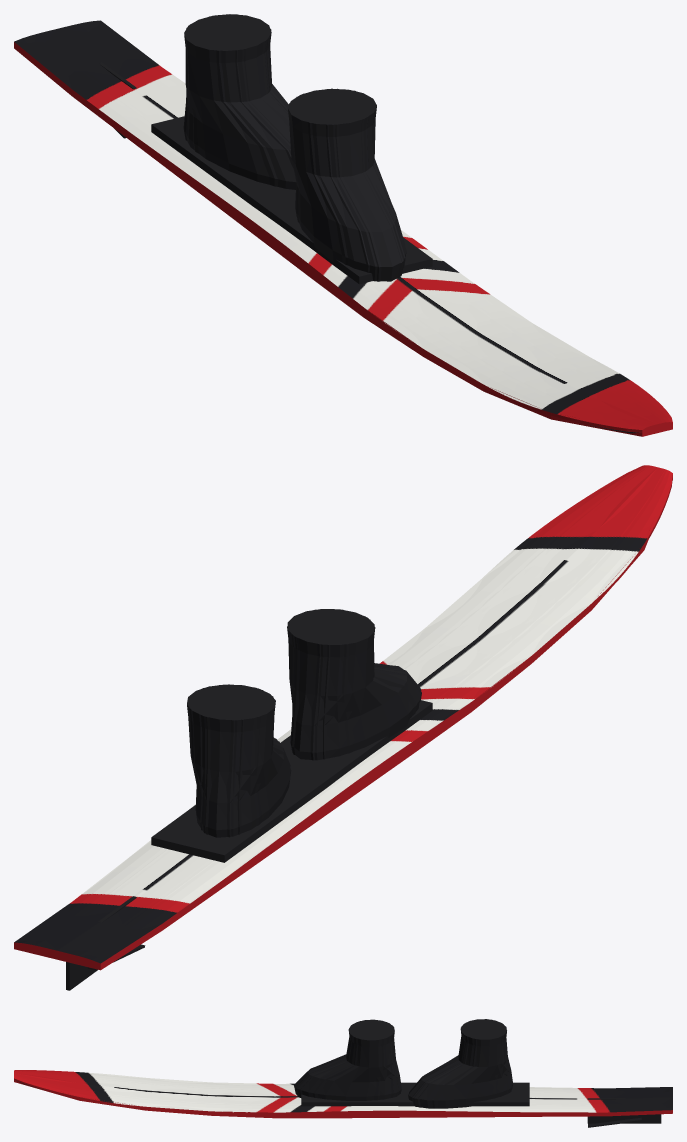
Rendered from FelderpussSki_V2_WadeCox.fbx.
The picture shows the model from 3 angles, top to bottom: view 1: azimuth 30°, elevation 25°; view 2: azimuth 150°, elevation 25°; view 3: azimuth 270°, elevation 25°; orthographic projection. The views are drawn at different scales.
Parts seen in each view (by area): view 1: INTERNAL_ONLY_Bindings_LOD0_V2, INTERNAL_ONLY_Ski_LOD0_V2, INTERNAL_ONLY_Ski_LOD2_V2, INTERNAL_ONLY_Ski_LOD1_V2, INTERNAL_ONLY_Bindings_LOD1_V2, INTERNAL_ONLY_Bindings_LOD2_V2; view 2: INTERNAL_ONLY_Bindings_LOD0_V2, INTERNAL_ONLY_Ski_LOD0_V2, INTERNAL_ONLY_Ski_LOD2_V2, INTERNAL_ONLY_Ski_LOD1_V2, INTERNAL_ONLY_Bindings_LOD1_V2, INTERNAL_ONLY_Bindings_LOD2_V2; view 3: INTERNAL_ONLY_Bindings_LOD0_V2, INTERNAL_ONLY_Ski_LOD0_V2, INTERNAL_ONLY_Ski_LOD2_V2, INTERNAL_ONLY_Ski_LOD1_V2, INTERNAL_ONLY_Bindings_LOD1_V2, INTERNAL_ONLY_Bindings_LOD2_V2.
Part boxes in pixels (x1=…): INTERNAL_ONLY_Bindings_LOD0_V2: x1=98, y1=14, x2=432, y2=284; INTERNAL_ONLY_Ski_LOD0_V2: x1=14, y1=20, x2=672, y2=435; INTERNAL_ONLY_Ski_LOD2_V2: x1=14, y1=21, x2=672, y2=436; INTERNAL_ONLY_Ski_LOD1_V2: x1=14, y1=23, x2=672, y2=433; INTERNAL_ONLY_Bindings_LOD1_V2: x1=184, y1=14, x2=405, y2=281; INTERNAL_ONLY_Bindings_LOD2_V2: x1=184, y1=15, x2=405, y2=272; INTERNAL_ONLY_Bindings_LOD0_V2: x1=66, y1=609, x2=432, y2=990; INTERNAL_ONLY_Ski_LOD0_V2: x1=14, y1=465, x2=672, y2=967; INTERNAL_ONLY_Ski_LOD2_V2: x1=14, y1=467, x2=672, y2=970; INTERNAL_ONLY_Ski_LOD1_V2: x1=15, y1=465, x2=666, y2=964; INTERNAL_ONLY_Bindings_LOD1_V2: x1=188, y1=609, x2=419, y2=837; INTERNAL_ONLY_Bindings_LOD2_V2: x1=188, y1=609, x2=421, y2=834; INTERNAL_ONLY_Bindings_LOD0_V2: x1=294, y1=1019, x2=661, y2=1127; INTERNAL_ONLY_Ski_LOD0_V2: x1=14, y1=1070, x2=672, y2=1116; INTERNAL_ONLY_Ski_LOD2_V2: x1=14, y1=1071, x2=672, y2=1118; INTERNAL_ONLY_Ski_LOD1_V2: x1=14, y1=1070, x2=672, y2=1116; INTERNAL_ONLY_Bindings_LOD1_V2: x1=296, y1=1019, x2=512, y2=1108; INTERNAL_ONLY_Bindings_LOD2_V2: x1=300, y1=1019, x2=508, y2=1107.
Bounding box in the file's own units: 0.177 × 0.2712 × 1.7.
Materials: 2 (1 with a texture image).
